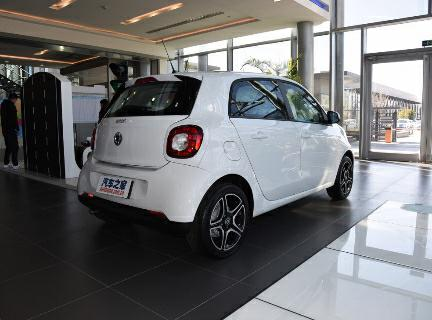smart-forfour: (70, 67, 359, 261)
